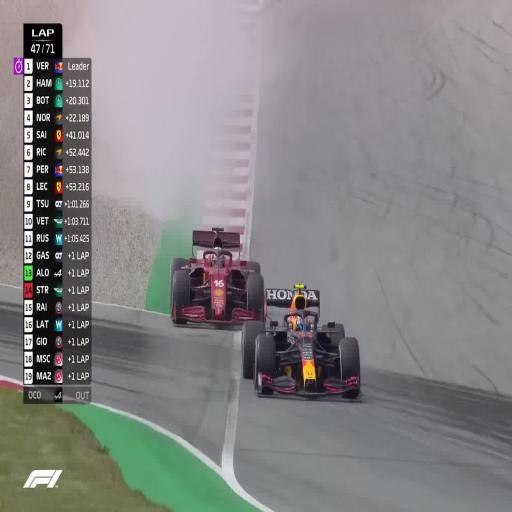f1_car: (241, 284, 360, 398), (170, 227, 265, 324)
